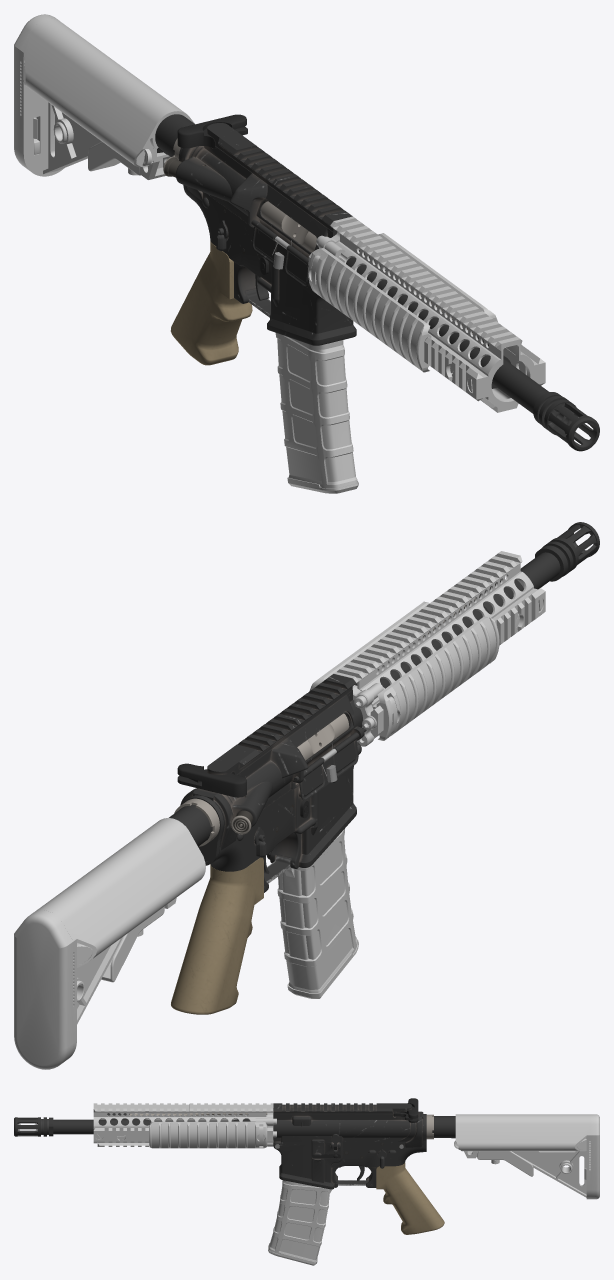
File: M4A1WithoutIronSights.fbx
The picture shows the model from 3 angles, top to bottom: view 1: azimuth 30°, elevation 25°; view 2: azimuth 150°, elevation 25°; view 3: azimuth 270°, elevation 25°; orthographic projection. The views are drawn at different scales.
Parts seen in each view (by area): view 1: body, stock, handgaurd 1, magazine, rail cover, ejection port cover, charging handle, bolt; view 2: body, stock, handgaurd 1, magazine, rail cover, ejection port cover, charging handle, handgaurd 2, bolt; view 3: body, stock, handgaurd 1, magazine, rail cover, charging handle, handgaurd 2.
Part boxes in pixels (x1,y1,x2,y2): body: (155, 114, 599, 451); stock: (14, 14, 194, 179); handgaurd 1: (308, 216, 545, 412); magazine: (275, 333, 358, 493); rail cover: (308, 233, 497, 372); ejection port cover: (251, 219, 309, 287); charging handle: (177, 114, 247, 148); bolt: (261, 201, 316, 252); body: (169, 522, 599, 1014); stock: (14, 818, 205, 1069); handgaurd 1: (333, 551, 545, 738); magazine: (277, 829, 358, 998); rail cover: (309, 601, 499, 740); ejection port cover: (294, 727, 366, 800); charging handle: (177, 763, 246, 797); handgaurd 2: (352, 598, 543, 746); bolt: (297, 713, 349, 760); body: (14, 1103, 455, 1234); stock: (454, 1114, 599, 1199); handgaurd 1: (93, 1103, 272, 1146); magazine: (268, 1180, 332, 1265); rail cover: (149, 1113, 267, 1148); charging handle: (393, 1098, 418, 1122); handgaurd 2: (95, 1108, 276, 1146).
Bounding box in the file's own units: 6.89 × 22.54 × 76.52.
